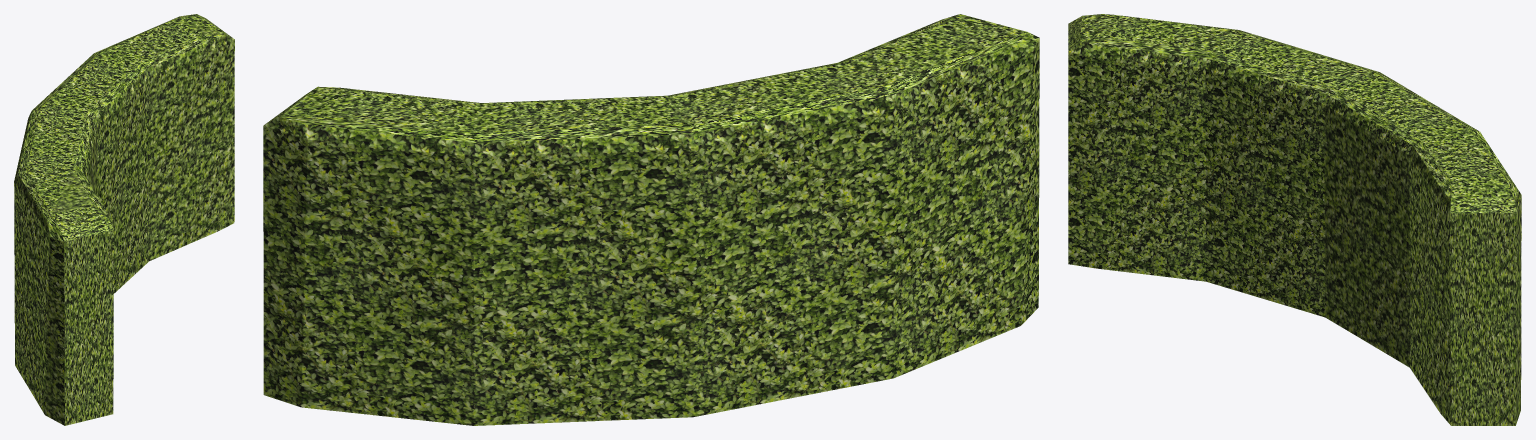
Rendered from hedge_2mx6m_curved_10x10m.fbx.
3 renders of one model, left to right at view 1: azimuth 30°, elevation 25°; view 2: azimuth 150°, elevation 25°; view 3: azimuth 270°, elevation 25°, orthographic. The views are drawn at different scales.
Parts seen in each view (by area): view 1: Cube; view 2: Cube; view 3: Cube.
Part boxes in pixels (left/top/right/bottom): Cube: left=14, top=14, right=234, bottom=425; Cube: left=263, top=14, right=1039, bottom=425; Cube: left=1068, top=14, right=1521, bottom=425.
Bounding box in the file's own units: 1096 × 600 × 1092.
